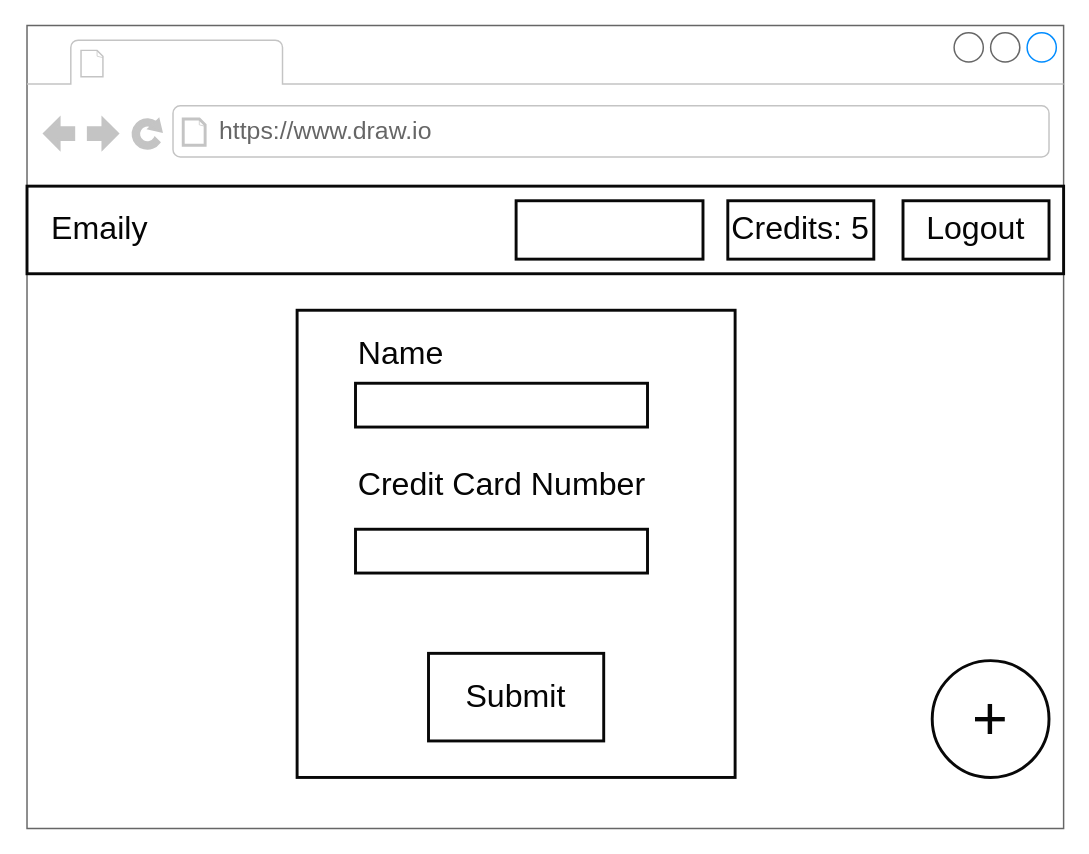
The diagram is 1089 pixels wide and 854 high, and some of its shapes have lost their labels. Each missing label, with the centre of its shape:
Add Credits: the point at 609,229
Page 1: the point at 194,61
